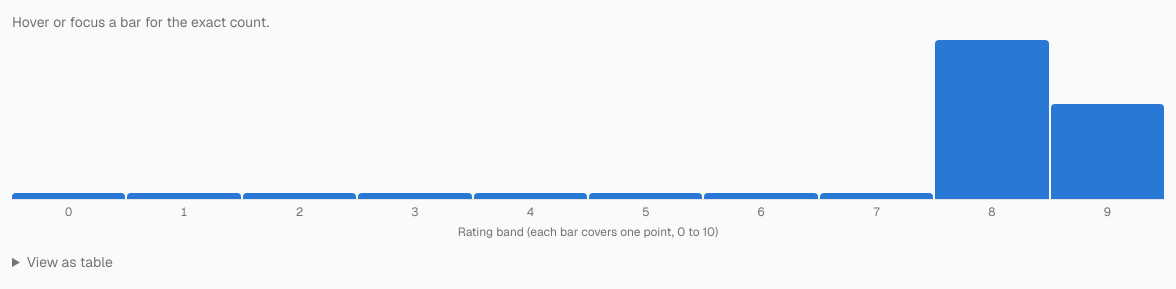
RatingDistribution › reveals exact counts on hover and offers a table
The image size is (1176, 289).
Hover over the button named "Rating 8-9: 50 reviews" at x=992, y=120, box [935,40,1049,199]
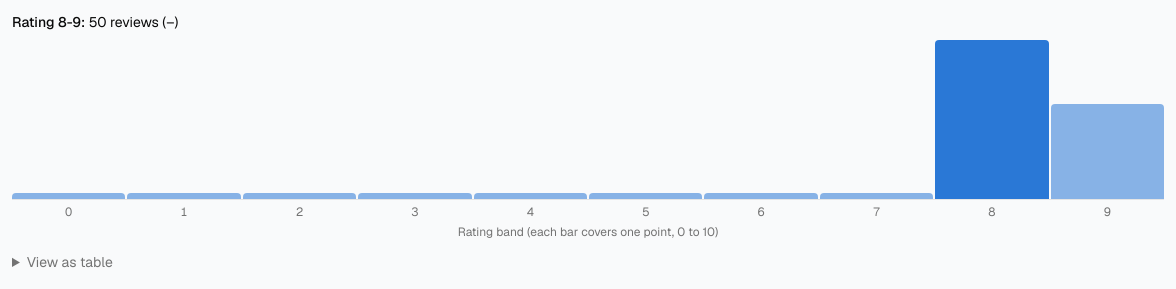
Expected: the heading "View as table" is shown, [12,252,113,272]
Expected: the text "Rating 8-9:" is shown, [12,13,85,31]
